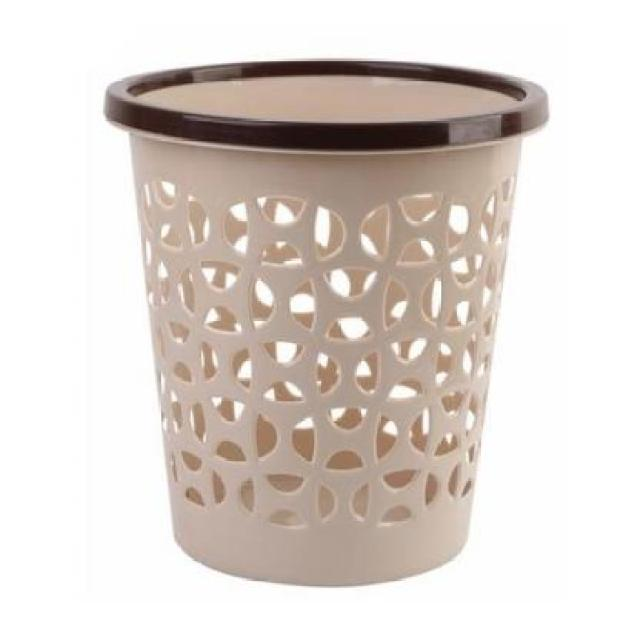dustbin: (99, 52, 553, 592)
